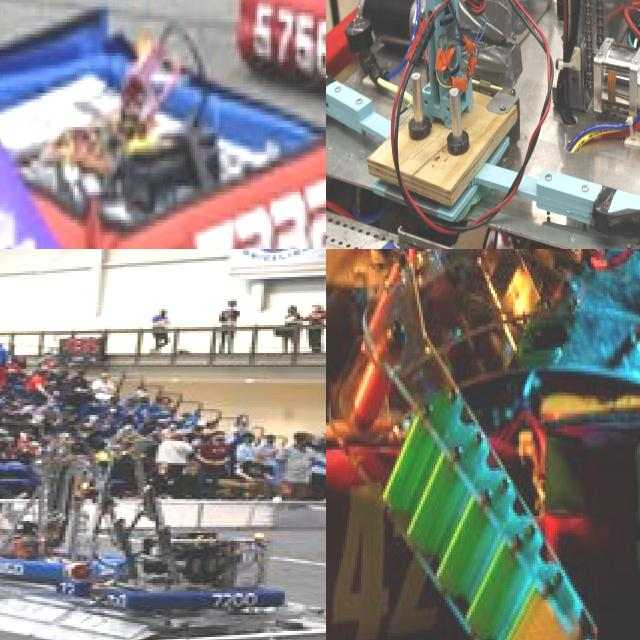FRC-Robots: (326, 249, 640, 640), (0, 0, 326, 249), (326, 0, 640, 249), (121, 463, 316, 624), (0, 431, 104, 589)
